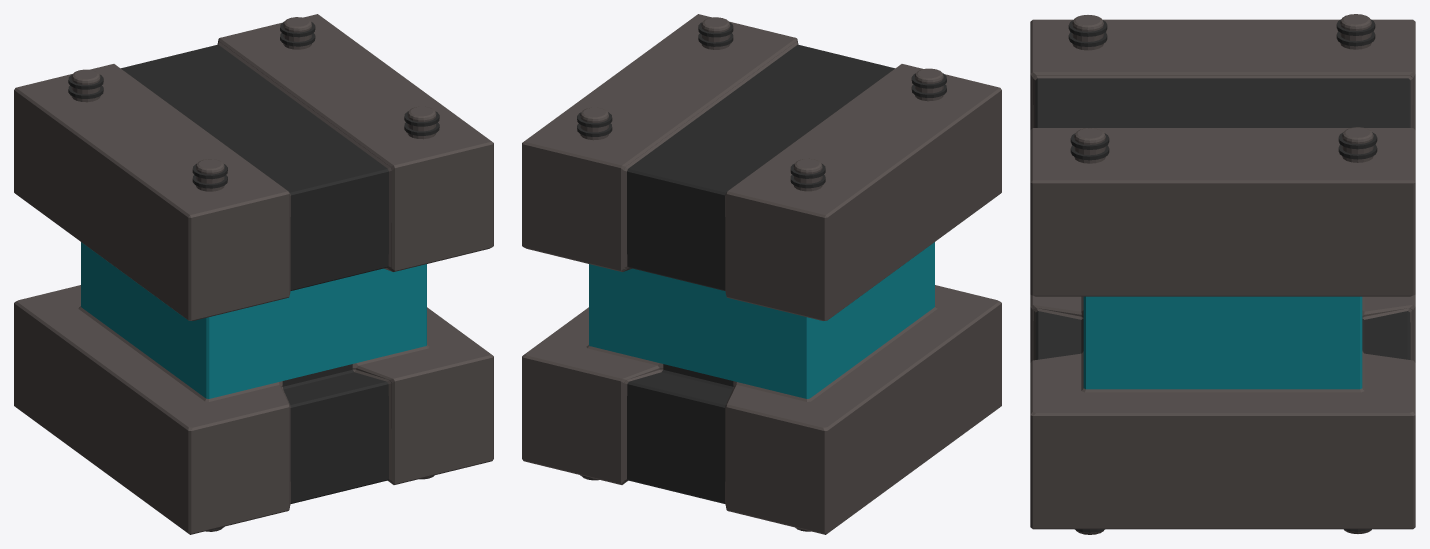
The model's file is accumulator.fbx.
3 views of the same model, side by side, from view 1: azimuth 30°, elevation 25°; view 2: azimuth 150°, elevation 25°; view 3: azimuth 270°, elevation 25° (orthographic). The views are drawn at different scales.
Parts seen in each view (by area): view 1: Accumulator; view 2: Accumulator; view 3: Accumulator.
Part boxes in pixels (<box>): Accumulator: <box>14,14,493,534</box>; Accumulator: <box>522,14,1001,534</box>; Accumulator: <box>1030,14,1415,534</box>.
Bounding box in the file's own units: 200 × 227 × 200.
